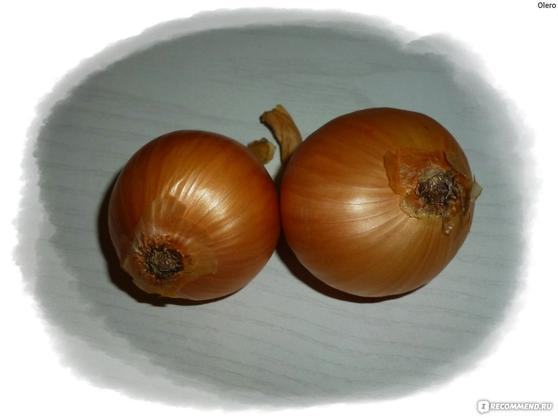onion: (277, 104, 478, 297), (95, 123, 280, 304)
